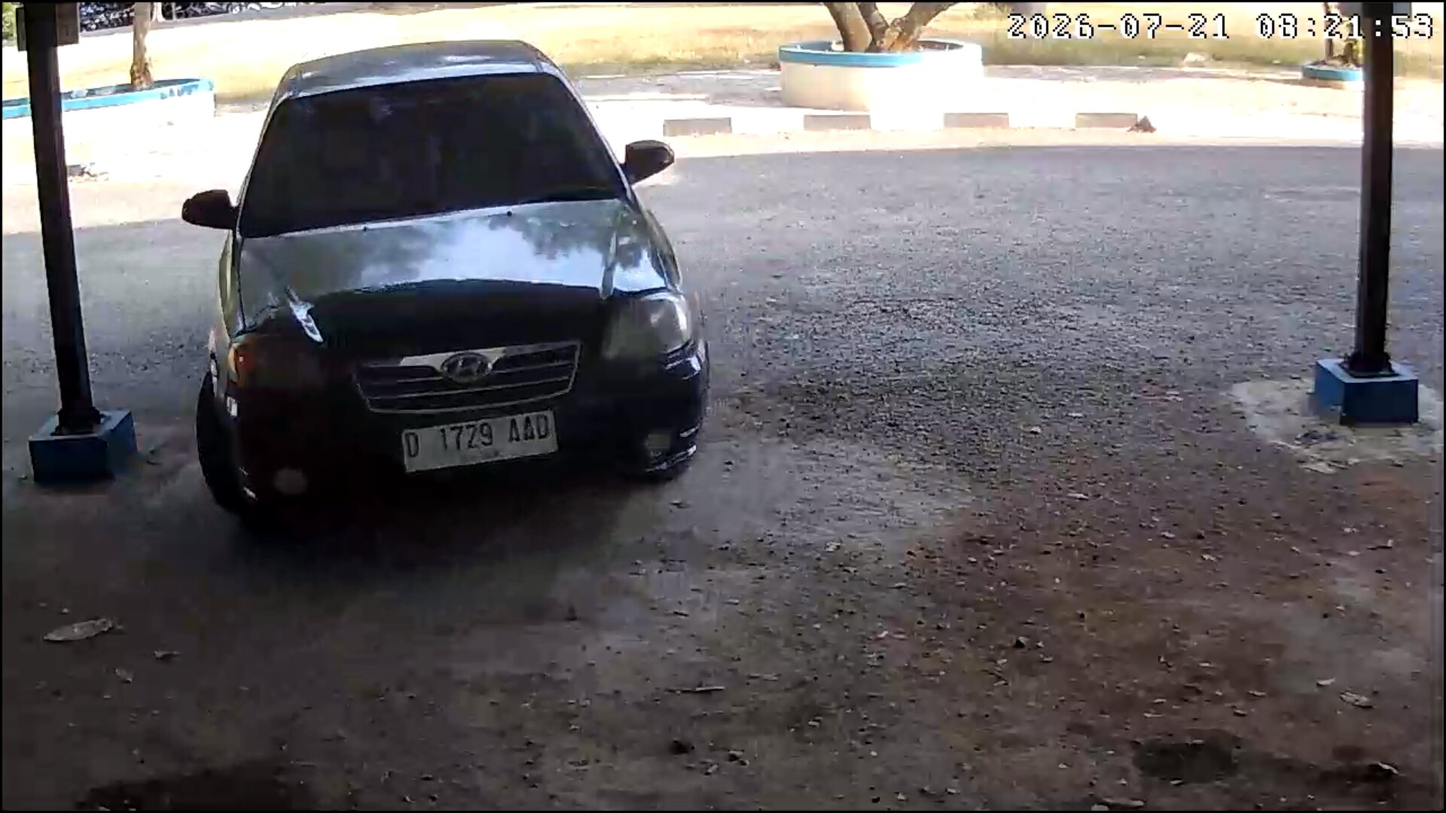plat nomor: (401, 409, 560, 477)
